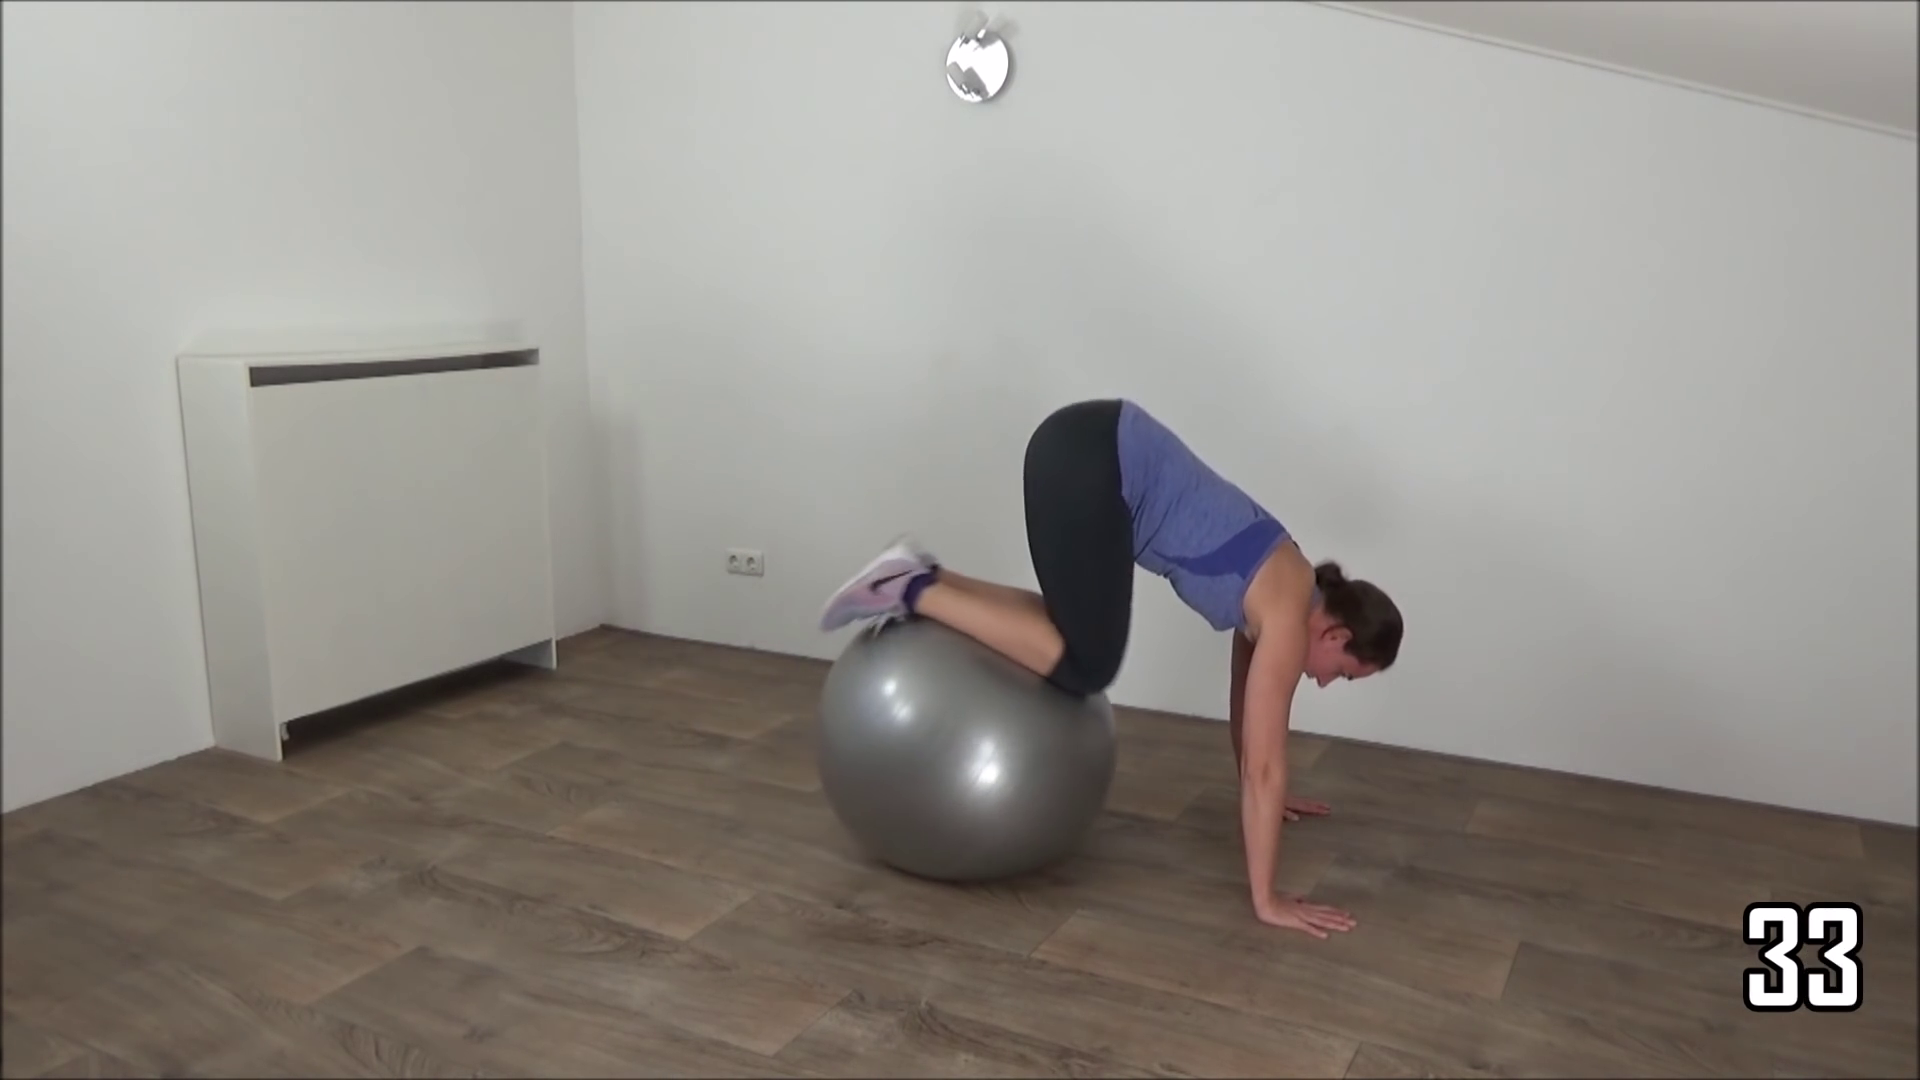yogaball: (808, 603, 1135, 909)
